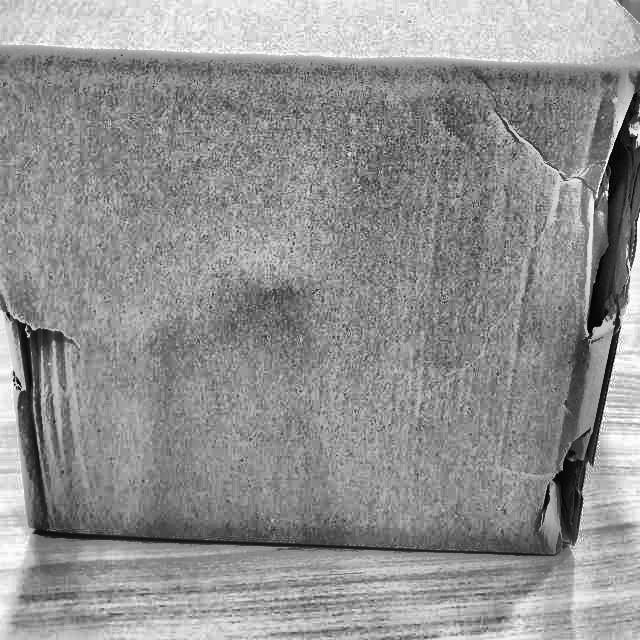box: (0, 0, 639, 565)
hole: (9, 298, 95, 470), (584, 76, 640, 331), (534, 429, 600, 551)
